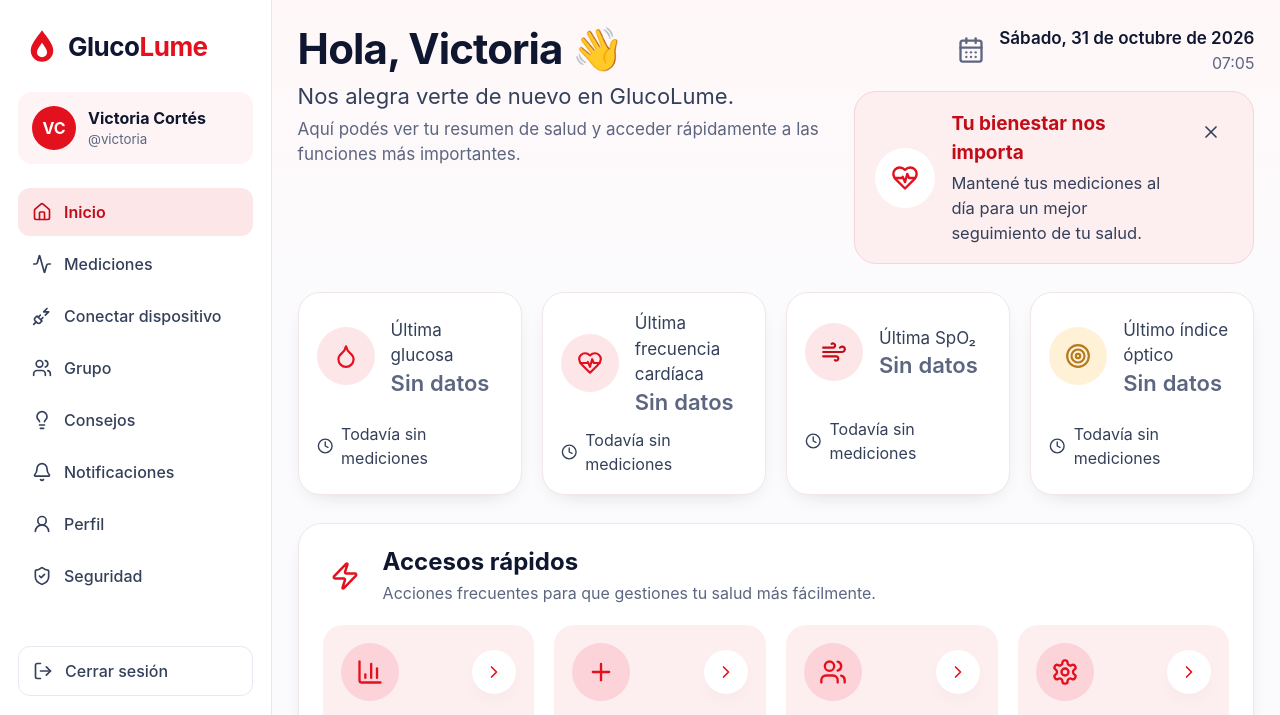
Inicio de una cuenta individual › el aviso de bienestar se puede cerrar
Step 1. Click the button named "Cerrar el aviso" → click(1211, 132), box [1189,110,1233,154]
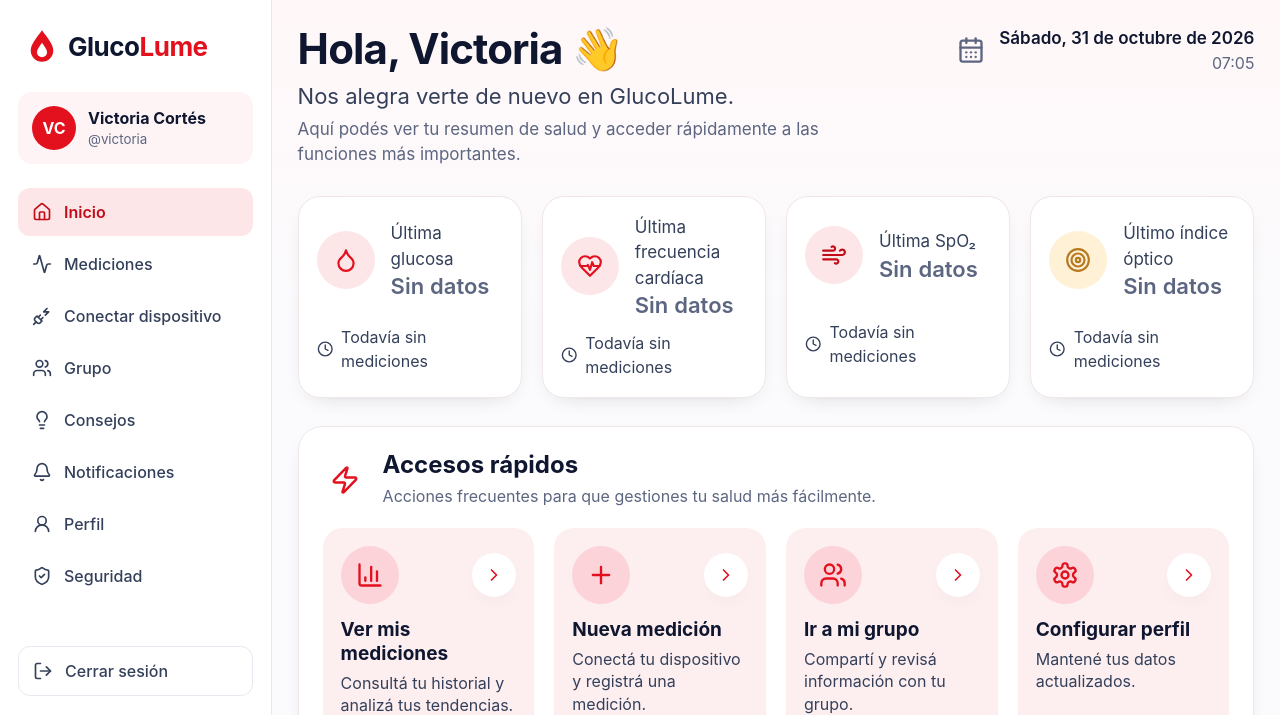
Result: the text "Tu bienestar nos importa" is gone
